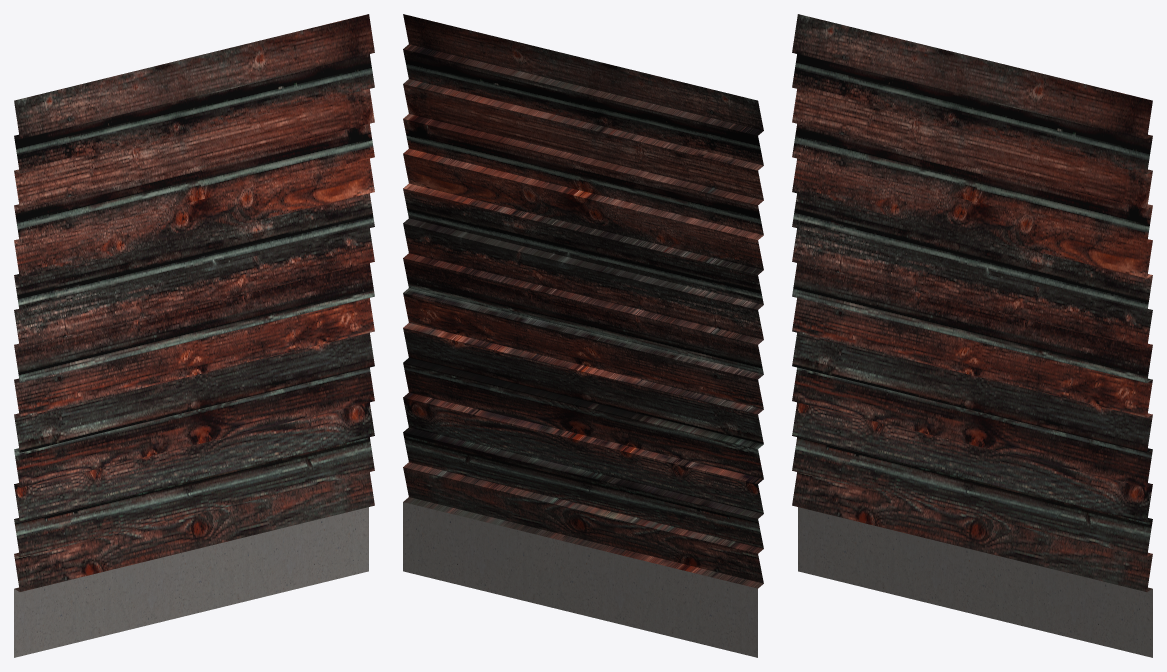
The model's file is Siding_T.fbx.
3 renders of one model, left to right at view 1: azimuth 30°, elevation 25°; view 2: azimuth 150°, elevation 25°; view 3: azimuth 330°, elevation 25°, orthographic.
Parts seen in each view (by area): view 1: Siding, SidingFoundation; view 2: Siding, SidingFoundation; view 3: Siding, SidingFoundation.
Part boxes in pixels (x1,y1,x2,y2): Siding: (14, 14, 374, 591); SidingFoundation: (14, 507, 368, 657); Siding: (403, 14, 763, 588); SidingFoundation: (403, 502, 757, 657); Siding: (792, 14, 1152, 591); SidingFoundation: (798, 507, 1152, 657).
Size of the model in its own units: 1 by 1.5 by 0.0286.
Materials: 2 (2 with a texture image).
